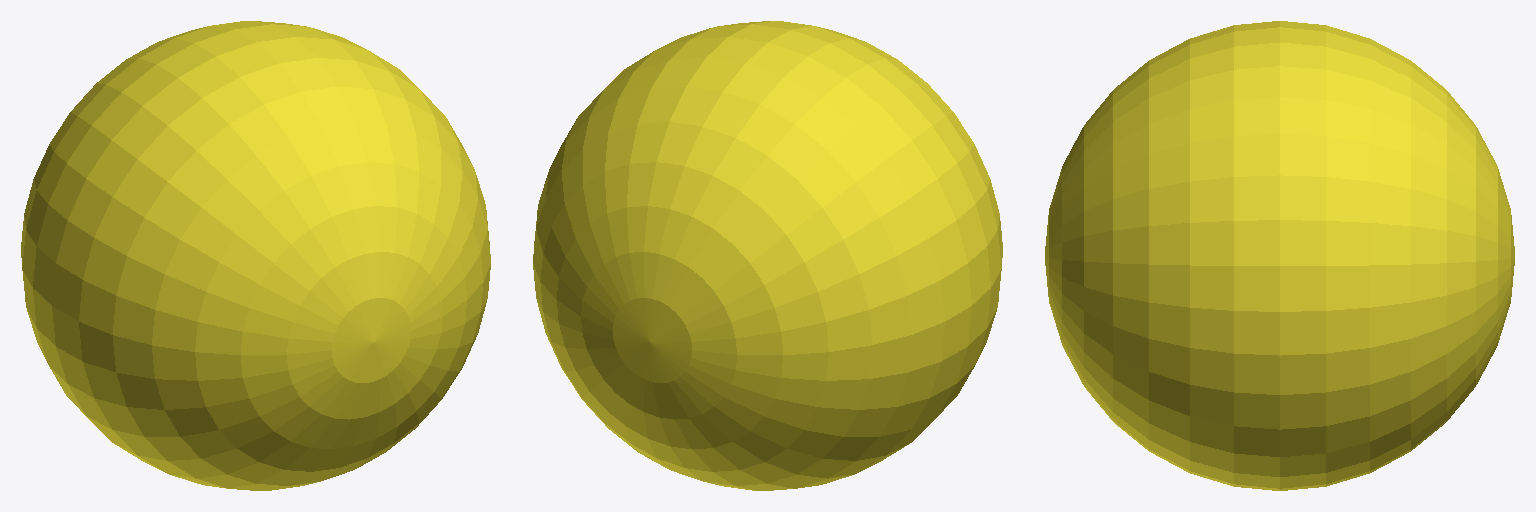
robot.urdf — ur10_robot:
<?xml version="1.0" ?>
<!-- <?xml version="1.0" encoding="utf-8"?> -->
<!-- =================================================================================== -->
<!-- |    This document was autogenerated by xacro from /root/catkin_ws/src/universal_robot/ur_description/urdf/ur.xacro | -->
<!-- |    EDITING THIS FILE BY HAND IS NOT RECOMMENDED                                 | -->
<!-- =================================================================================== -->
<robot name="ur10_robot">
  <!--
    Base UR robot series xacro macro.

    NOTE: this is NOT a URDF. It cannot directly be loaded by consumers
    expecting a flattened '.urdf' file. See the top-level '.xacro' for that
    (but note: that .xacro must still be processed by the xacro command).

    For use in '.launch' files: use one of the 'load_urX.launch' convenience
    launch files.

    This file models the base kinematic chain of a UR robot, which then gets
    parameterised by various configuration files to convert it into a UR3(e),
    UR5(e), UR10(e) or UR16e.

    NOTE: the default kinematic parameters (ie: link lengths, frame locations,
    offets, etc) do not correspond to any particular robot. They are defaults
    only. There WILL be non-zero offsets between the Forward Kinematics results
    in TF (ie: robot_state_publisher) and the values reported by the Teach
    Pendant.

    For accurate (and robot-specific) transforms, the 'kinematics_parameters_file'
    parameter MUST point to a .yaml file containing the appropriate values for
    the targetted robot.

    If using the UniversalRobots/Universal_Robots_ROS_Driver, follow the steps
    described in the readme of that repository to extract the kinematic
    calibration from the controller and generate the required .yaml file.

    Main author of the migration to yaml configs: [author].

    Contributors to previous versions (in no particular order):

     - [author]
     - [author]
     - [author]
     - [author]
     - [author]
     - [author]
     - [author]
     - [author]
     - [author]
     - [author]
     - [author]
     - [author]
     - [author]
     - [author]
     - [author]
     - [author]
     - [author]
  -->
  <!--
    NOTE: the macro defined in this file is NOT part of the public API of this
          package. Users CANNOT rely on this file being available, or stored in
          this location. Nor can they rely on the existence of the macro.
  -->
  <transmission name="shoulder_pan_trans">
    <type>transmission_interface/SimpleTransmission</type>
    <joint name="shoulder_pan_joint">
      <hardwareInterface>hardware_interface/PositionJointInterface</hardwareInterface>
    </joint>
    <actuator name="shoulder_pan_motor">
      <mechanicalReduction>1</mechanicalReduction>
    </actuator>
  </transmission>
  <transmission name="shoulder_lift_trans">
    <type>transmission_interface/SimpleTransmission</type>
    <joint name="shoulder_lift_joint">
      <hardwareInterface>hardware_interface/PositionJointInterface</hardwareInterface>
    </joint>
    <actuator name="shoulder_lift_motor">
      <mechanicalReduction>1</mechanicalReduction>
    </actuator>
  </transmission>
  <transmission name="elbow_trans">
    <type>transmission_interface/SimpleTransmission</type>
    <joint name="elbow_joint">
      <hardwareInterface>hardware_interface/PositionJointInterface</hardwareInterface>
    </joint>
    <actuator name="elbow_motor">
      <mechanicalReduction>1</mechanicalReduction>
    </actuator>
  </transmission>
  <transmission name="wrist_1_trans">
    <type>transmission_interface/SimpleTransmission</type>
    <joint name="wrist_1_joint">
      <hardwareInterface>hardware_interface/PositionJointInterface</hardwareInterface>
    </joint>
    <actuator name="wrist_1_motor">
      <mechanicalReduction>1</mechanicalReduction>
    </actuator>
  </transmission>
  <transmission name="wrist_2_trans">
    <type>transmission_interface/SimpleTransmission</type>
    <joint name="wrist_2_joint">
      <hardwareInterface>hardware_interface/PositionJointInterface</hardwareInterface>
    </joint>
    <actuator name="wrist_2_motor">
      <mechanicalReduction>1</mechanicalReduction>
    </actuator>
  </transmission>
  <transmission name="wrist_3_trans">
    <type>transmission_interface/SimpleTransmission</type>
    <joint name="wrist_3_joint">
      <hardwareInterface>hardware_interface/PositionJointInterface</hardwareInterface>
    </joint>
    <actuator name="wrist_3_motor">
      <mechanicalReduction>1</mechanicalReduction>
    </actuator>
  </transmission>
  <!-- links: main serial chain -->
  <link name="base_link"/>
  <link name="base_link_inertia">
    <visual>
      <origin rpy="0 0 3.14159265359" xyz="0 0 0"/>
      <geometry>
        <mesh filename="meshes/ur10/visual/base.dae"/>
      </geometry>
      <material name="LightGrey">
        <color rgba="0.7 0.7 0.7 1.0"/>
      </material>
    </visual>
    <collision>
      <origin rpy="0 0 3.14159265359" xyz="0 0 0"/>
      <geometry>
        <mesh filename="meshes/ur10/collision/base.stl"/>
      </geometry>
    </collision>
    <inertial>
      <mass value="4.0"/>
      <origin rpy="0 0 0" xyz="0 0 0"/>
      <inertia ixx="0.0061063308908" ixy="0.0" ixz="0.0" iyy="0.0061063308908" iyz="0.0" izz="0.01125"/>
    </inertial>
  </link>
  <link name="shoulder_link">
    <visual>
      <origin rpy="0 0 3.14159265359" xyz="0 0 0"/>
      <geometry>
        <mesh filename="meshes/ur10/visual/shoulder.dae"/>
      </geometry>
      <material name="LightGrey">
        <color rgba="0.7 0.7 0.7 1.0"/>
      </material>
    </visual>
    <collision>
      <origin rpy="0 0 3.14159265359" xyz="0 0 0"/>
      <geometry>
        <mesh filename="meshes/ur10/collision/shoulder.stl"/>
      </geometry>
    </collision>
    <inertial>
      <mass value="7.778"/>
      <origin rpy="0 0 0" xyz="0 0 0"/>
      <inertia ixx="0.0314743125769" ixy="0.0" ixz="0.0" iyy="0.0314743125769" iyz="0.0" izz="0.021875625"/>
    </inertial>
  </link>
  <link name="upper_arm_link">
    <visual>
      <origin rpy="1.57079632679 0 -1.57079632679" xyz="0 0 0.220941"/>
      <geometry>
        <mesh filename="meshes/ur10/visual/upperarm.dae"/>
      </geometry>
      <material name="LightGrey">
        <color rgba="0.7 0.7 0.7 1.0"/>
      </material>
    </visual>
    <collision>
      <origin rpy="1.57079632679 0 -1.57079632679" xyz="0 0 0.220941"/>
      <geometry>
        <mesh filename="meshes/ur10/collision/upperarm.stl"/>
      </geometry>
    </collision>
    <inertial>
      <mass value="12.93"/>
      <origin rpy="0 1.57079632679 0" xyz="-0.306 0.0 0.175"/>
      <inertia ixx="0.421753803798" ixy="0.0" ixz="0.0" iyy="0.421753803798" iyz="0.0" izz="0.036365625"/>
    </inertial>
  </link>
  <link name="forearm_link">
    <visual>
      <origin rpy="1.57079632679 0 -1.57079632679" xyz="0 0 0.049042"/>
      <geometry>
        <mesh filename="meshes/ur10/visual/forearm.dae"/>
      </geometry>
      <material name="LightGrey">
        <color rgba="0.7 0.7 0.7 1.0"/>
      </material>
    </visual>
    <collision>
      <origin rpy="1.57079632679 0 -1.57079632679" xyz="0 0 0.049042"/>
      <geometry>
        <mesh filename="meshes/ur10/collision/forearm.stl"/>
      </geometry>
    </collision>
    <inertial>
      <mass value="3.87"/>
      <origin rpy="0 1.57079632679 0" xyz="-0.28615 0.0 0.049042"/>
      <inertia ixx="0.111069694097" ixy="0.0" ixz="0.0" iyy="0.111069694097" iyz="0.0" izz="0.010884375"/>
    </inertial>
  </link>
  <link name="wrist_1_link">
    <visual>
      <!-- TODO: Move this to a parameter -->
      <origin rpy="1.57079632679 0 0" xyz="0 0 -0.1149"/>
      <geometry>
        <mesh filename="meshes/ur10/visual/wrist1.dae"/>
      </geometry>
      <material name="LightGrey">
        <color rgba="0.7 0.7 0.7 1.0"/>
      </material>
    </visual>
    <collision>
      <origin rpy="1.57079632679 0 0" xyz="0 0 -0.1149"/>
      <geometry>
        <mesh filename="meshes/ur10/collision/wrist1.stl"/>
      </geometry>
    </collision>
    <inertial>
      <mass value="1.96"/>
      <origin rpy="0 0 0" xyz="0 0 0"/>
      <inertia ixx="0.0051082479567" ixy="0.0" ixz="0.0" iyy="0.0051082479567" iyz="0.0" izz="0.0055125"/>
    </inertial>
  </link>
  <link name="wrist_2_link">
    <visual>
      <origin rpy="0 0 0" xyz="0 0 -0.1158"/>
      <geometry>
        <mesh filename="meshes/ur10/visual/wrist2.dae"/>
      </geometry>
      <material name="LightGrey">
        <color rgba="0.7 0.7 0.7 1.0"/>
      </material>
    </visual>
    <collision>
      <origin rpy="0 0 0" xyz="0 0 -0.1158"/>
      <geometry>
        <mesh filename="meshes/ur10/collision/wrist2.stl"/>
      </geometry>
    </collision>
    <inertial>
      <mass value="1.96"/>
      <origin rpy="0 0 0" xyz="0 0 0"/>
      <inertia ixx="0.0040792483683" ixy="0.0" ixz="0.0" iyy="0.0040792483683" iyz="0.0" izz="0.0055125"/>
    </inertial>
  </link>
  <link name="wrist_3_link">
    <visual>
      <origin rpy="1.57079632679 0 0" xyz="0 0 -0.0922"/>
      <geometry>
        <mesh filename="meshes/ur10/visual/wrist3.dae"/>
      </geometry>
      <material name="LightGrey">
        <color rgba="0.7 0.7 0.7 1.0"/>
      </material>
    </visual>
    <collision>
      <origin rpy="1.57079632679 0 0" xyz="0 0 -0.0922"/>
      <geometry>
        <mesh filename="meshes/ur10/collision/wrist3.stl"/>
      </geometry>
    </collision>
    <inertial>
      <mass value="0.202"/>
      <origin rpy="0 0 0" xyz="0.0 0.0 -0.01525"/>
      <inertia ixx="0.000117921661165" ixy="0.0" ixz="0.0" iyy="0.000117921661165" iyz="0.0" izz="0.000204525"/>
    </inertial>
  </link>
  <!-- joints: main serial chain -->
  <joint name="base_link-base_link_inertia" type="fixed">
    <parent link="base_link"/>
    <child link="base_link_inertia"/>
    <!-- 'base_link' is REP-103 aligned (so X+ forward), while the internal
           frames of the robot/controller have X+ pointing backwards.
           Use the joint between 'base_link' and 'base_link_inertia' (a dummy
           link/frame) to introduce the necessary rotation over Z (of pi rad).
      -->
    <origin rpy="0 0 3.14159265359" xyz="0 0 0"/>
  </joint>
  <joint name="shoulder_pan_joint" type="revolute">
    <parent link="base_link_inertia"/>
    <child link="shoulder_link"/>
    <origin rpy="0 0 0" xyz="0 0 0.1273"/>
    <axis xyz="0 0 1"/>
    <limit effort="330.0" lower="-3.1415" upper="3.1415" velocity="2.09439510239"/>
    <dynamics damping="0" friction="0"/>
  </joint>
  <joint name="shoulder_lift_joint" type="revolute">
    <parent link="shoulder_link"/>
    <child link="upper_arm_link"/>
    <origin rpy="1.570796327 0 0" xyz="0 0 0"/>
    <axis xyz="0 0 1"/>
    <limit effort="330.0" lower="-3.1415" upper="3.1415" velocity="2.09439510239"/>
    <dynamics damping="0" friction="0"/>
  </joint>
  <joint name="elbow_joint" type="revolute">
    <parent link="upper_arm_link"/>
    <child link="forearm_link"/>
    <origin rpy="0 0 0" xyz="-0.612 0 0"/>
    <axis xyz="0 0 1"/>
    <limit effort="150.0" lower="-3.1415" upper="3.1415" velocity="3.14159265359"/>
    <dynamics damping="0" friction="0"/>
  </joint>
  <joint name="wrist_1_joint" type="revolute">
    <parent link="forearm_link"/>
    <child link="wrist_1_link"/>
    <origin rpy="0 0 0" xyz="-0.5723 0 0.163941"/>
    <axis xyz="0 0 1"/>
    <limit effort="56.0" lower="-3.1415" upper="3.1415" velocity="3.14159265359"/>
    <dynamics damping="0" friction="0"/>
  </joint>
  <joint name="wrist_2_joint" type="revolute">
    <parent link="wrist_1_link"/>
    <child link="wrist_2_link"/>
    <origin rpy="1.570796327 0 0" xyz="0 -0.1157 -2.37304666792e-11"/>
    <axis xyz="0 0 1"/>
    <limit effort="56.0" lower="-3.1415" upper="3.1415" velocity="3.14159265359"/>
    <dynamics damping="0" friction="0"/>
  </joint>
  <joint name="wrist_3_joint" type="revolute">
    <parent link="wrist_2_link"/>
    <child link="wrist_3_link"/>
    <origin rpy="1.57079632659 3.14159265359 3.14159265359" xyz="0 0.0922 -1.89105361091e-11"/>
    <axis xyz="0 0 1"/>
    <limit effort="56.0" lower="-3.1415" upper="3.1415" velocity="3.14159265359"/>
    <dynamics damping="0" friction="0"/>
  </joint>
  <!-- ROS-Industrial 'base' frame: base_link to UR 'Base' Coordinates transform -->
  <link name="base"/>
  <joint name="base_link-base_fixed_joint" type="fixed">
    <!-- Note the rotation over Z of pi radians: as base_link is REP-103
           aligned (ie: has X+ forward, Y+ left and Z+ up), this is needed
           to correctly align 'base' with the 'Base' coordinate system of
           the UR controller.
      -->
    <origin rpy="0 0 3.14159265359" xyz="0 0 0"/>
    <parent link="base_link"/>
    <child link="base"/>
  </joint>
  <!-- ROS-Industrial 'flange' frame: attachment point for EEF models -->
  <link name="flange"/>
  <joint name="wrist_3-flange" type="fixed">
    <parent link="wrist_3_link"/>
    <child link="flange"/>
    <origin rpy="0 -1.57079632679 -1.57079632679" xyz="0 0 0"/>
  </joint>
  
  <link name="robotiq_85_base_link">
      <visual>
        <geometry>
          <mesh filename="meshes/robotiq_85_gripper/visual/robotiq_85_base_link.dae"/>
        </geometry>
      </visual>
      <collision>
        <geometry>
          <mesh filename="meshes/robotiq_85_gripper/collision/robotiq_85_base_link.stl"/>
        </geometry>
      </collision>
      <inertial>
        <mass value="0.636951" />
        <origin xyz="0.0 0.0 0.0" />
        <inertia ixx = "0.000380" ixy = "0.000000" ixz = "0.000000"
             iyx = "0.000000" iyy = "0.001110" iyz = "0.000000"
             izx = "0.000000" izy = "0.000000" izz = "0.001171" />
      </inertial>
    </link>

    <!-- <joint name="robotiq_85_left_knuckle_joint" type="revolute"> -->
    <joint name="robotiq_85_left_knuckle_joint" type="fixed">
      <parent link="robotiq_85_base_link"/>
      <child link="robotiq_85_left_knuckle_link"/>
      <axis xyz="0 0 1"/>
      <origin rpy="3.14 0.0 0.0" xyz="0.05490451627 0.03060114443 0.0"/>
      <!-- <limit lower="0.0" upper="0.80285" velocity="3.14" effort="1000"/> -->
    </joint>

    <!-- <joint name="robotiq_85_right_knuckle_joint" type="revolute"> -->
    <joint name="robotiq_85_right_knuckle_joint" type="fixed">
      <parent link="robotiq_85_base_link"/>
      <child link="robotiq_85_right_knuckle_link"/>
      <axis xyz="0 0 1"/>
      <origin rpy="0.0 0.0 0.0" xyz="0.05490451627 -0.03060114443 0.0"/>
      <!-- <limit lower="-3.14" upper="3.14" velocity="3.14" effort="1000"/>
      <mimic joint="robotiq_85_left_knuckle_joint"/> -->
    </joint>

    <link name="robotiq_85_left_knuckle_link">
      <visual>
        <geometry>
          <mesh filename="meshes/robotiq_85_gripper/visual/robotiq_85_knuckle_link.dae"/>
        </geometry>
      </visual>
      <collision>
        <geometry>
          <mesh filename="meshes/robotiq_85_gripper/collision/robotiq_85_knuckle_link.stl"/>
        </geometry>
      </collision>
      <inertial>
        <mass value="0.018491" />
        <origin xyz="0.0 0.0 0.0" />
        <inertia ixx = "0.000009" ixy = "-0.000001" ixz = "0.000000"
             iyx = "-0.000001" iyy = "0.000001" iyz = "0.000000"
             izx = "0.000000" izy = "0.000000" izz = "0.000010" />
      </inertial>
    </link>

    <link name="robotiq_85_right_knuckle_link">
      <visual>
        <geometry>
          <mesh filename="meshes/robotiq_85_gripper/visual/robotiq_85_knuckle_link.dae"/>
        </geometry>
      </visual>
      <collision>
        <geometry>
          <mesh filename="meshes/robotiq_85_gripper/collision/robotiq_85_knuckle_link.stl"/>
        </geometry>
      </collision>
      <inertial>
        <mass value="0.018491" />
        <origin xyz="0.0 0.0 0.0" />
        <inertia ixx = "0.000009" ixy = "-0.000001" ixz = "0.000000"
             iyx = "-0.000001" iyy = "0.000001" iyz = "0.000000"
             izx = "0.000000" izy = "0.000000" izz = "0.000010" />
      </inertial>
    </link>

    <joint name="robotiq_85_left_finger_joint" type="fixed">
      <parent link="robotiq_85_left_knuckle_link"/>
      <child link="robotiq_85_left_finger_link"/>
      <origin xyz="-0.00408552455 -0.03148604435 0.0" rpy="0 0 0" />
    </joint>

    <joint name="robotiq_85_right_finger_joint" type="fixed">
      <parent link="robotiq_85_right_knuckle_link"/>
      <child link="robotiq_85_right_finger_link"/>
      <origin xyz="-0.00408552455 -0.03148604435 0.0" rpy="0 0 0" />
    </joint>

    <link name="robotiq_85_left_finger_link">
      <visual>
        <geometry>
          <mesh filename="meshes/robotiq_85_gripper/visual/robotiq_85_finger_link.dae"/>
        </geometry>
      </visual>
      <collision>
        <geometry>
          <mesh filename="meshes/robotiq_85_gripper/collision/robotiq_85_finger_link.stl"/>
        </geometry>
      </collision>
      <inertial>
        <mass value="0.027309" />
        <origin xyz="0.0 0.0 0.0" />
        <inertia ixx = "0.000003" ixy = "-0.000002" ixz = "0.000000"
             iyx = "-0.000002" iyy = "0.000021" iyz = "0.000000"
             izx = "0.000000" izy = "0.000000" izz = "0.000020" />
      </inertial>
    </link>

    <link name="robotiq_85_right_finger_link">
      <visual>
        <geometry>
          <mesh filename="meshes/robotiq_85_gripper/visual/robotiq_85_finger_link.dae"/>
        </geometry>
      </visual>
      <collision>
        <geometry>
          <mesh filename="meshes/robotiq_85_gripper/collision/robotiq_85_finger_link.stl"/>
        </geometry>
      </collision>
      <inertial>
        <mass value="0.027309" />
        <origin xyz="0.0 0.0 0.0" />
        <inertia ixx = "0.000003" ixy = "-0.000002" ixz = "0.000000"
             iyx = "-0.000002" iyy = "0.000021" iyz = "0.000000"
             izx = "0.000000" izy = "0.000000" izz = "0.000020" />
      </inertial>
    </link>

    <!-- <joint name="robotiq_85_left_inner_knuckle_joint" type="revolute"> -->
    <joint name="robotiq_85_left_inner_knuckle_joint" type="fixed">
      <parent link="robotiq_85_base_link"/>
      <child link="robotiq_85_left_inner_knuckle_link"/>
      <axis xyz="0 0 1"/>
      <origin xyz="0.06142 0.0127 0" rpy="3.14 0.0 0.0" />
      <!-- <limit lower="-3.14" upper="3.14" velocity="3.14" effort="0.1"/>
      <mimic joint="robotiq_85_left_knuckle_joint" offset="0"/> -->
    </joint>

    <!-- <joint name="robotiq_85_right_inner_knuckle_joint" type="revolute"> -->
    <joint name="robotiq_85_right_inner_knuckle_joint" type="fixed">
      <parent link="robotiq_85_base_link"/>
      <child link="robotiq_85_right_inner_knuckle_link"/>
      <axis xyz="0 0 1"/>
      <origin xyz="0.06142 -0.0127 0" rpy="0 0 0"/>
      <!-- <limit lower="-3.14" upper="3.14" velocity="3.14" effort="0.1"/>
      <mimic joint="robotiq_85_left_knuckle_joint" offset="0"/> -->
    </joint>

    <link name="robotiq_85_left_inner_knuckle_link">
      <visual>
        <geometry>
          <mesh filename="meshes/robotiq_85_gripper/visual/robotiq_85_inner_knuckle_link.dae"/>
        </geometry>
      </visual>
      <collision>
        <geometry>
          <mesh filename="meshes/robotiq_85_gripper/collision/robotiq_85_inner_knuckle_link.stl"/>
        </geometry>
      </collision>
      <inertial>
        <mass value="0.029951" />
        <origin xyz="0.0 0.0 0.0" />
        <inertia ixx = "0.000039" ixy = "0.000000" ixz = "0.000000"
             iyx = "0.000000" iyy = "0.000005" iyz = "0.000000"
             izx = "0.000000" izy = "0.000000" izz = "0.000035" />
      </inertial>
    </link>
    <link name="robotiq_85_right_inner_knuckle_link">
      <visual>
        <geometry>
          <mesh filename="meshes/robotiq_85_gripper/visual/robotiq_85_inner_knuckle_link.dae"/>
        </geometry>
      </visual>
      <collision>
        <geometry>
          <mesh filename="meshes/robotiq_85_gripper/collision/robotiq_85_inner_knuckle_link.stl"/>
        </geometry>
      </collision>
      <inertial>
        <mass value="0.029951" />
        <origin xyz="0.0 0.0 0.0" />
        <inertia ixx = "0.000039" ixy = "0.000000" ixz = "0.000000"
             iyx = "0.000000" iyy = "0.000005" iyz = "0.000000"
             izx = "0.000000" izy = "0.000000" izz = "0.000035" />
      </inertial>
    </link>

    <!-- <joint name="robotiq_85_left_finger_tip_joint" type="revolute"> -->
    <joint name="robotiq_85_left_finger_tip_joint" type="fixed">
      <parent link="robotiq_85_left_inner_knuckle_link"/>
      <child link="robotiq_85_left_finger_tip_link"/>
      <axis xyz="0 0 1"/>
      <origin xyz="0.04303959807 -0.03759940821 0.0" rpy="0.0 0.0 0.0"/>
      <!-- <limit lower="-3.14" upper="3.14" velocity="3.14" effort="0.1"/>
      <mimic joint="robotiq_85_left_knuckle_joint" multiplier="-1"/> -->
    </joint>

    <!-- <joint name="robotiq_85_right_finger_tip_joint" type="revolute"> -->
    <joint name="robotiq_85_right_finger_tip_joint" type="fixed">
      <parent link="robotiq_85_right_inner_knuckle_link"/>
      <child link="robotiq_85_right_finger_tip_link"/>
      <axis xyz="0 0 1"/>
      <origin rpy="0.0 0.0 0.0" xyz="0.04303959807 -0.03759940821  0.0"/>
      <!-- <limit lower="-3.14" upper="3.14" velocity="3.14" effort="0.1"/>
      <mimic joint="robotiq_85_left_knuckle_joint" multiplier="-1"/> -->
    </joint>


    <link name="robotiq_85_left_finger_tip_link">
      <visual>
        <geometry>
          <mesh filename="meshes/robotiq_85_gripper/visual/robotiq_85_finger_tip_link.dae"/>
        </geometry>
      </visual>
      <collision>
        <geometry>
          <mesh filename="meshes/robotiq_85_gripper/collision/robotiq_85_finger_tip_link.stl"/>
        </geometry>
      </collision>
      <inertial>
        <mass value="0.019555" />
        <origin xyz="0.0 0.0 0.0" />
        <inertia ixx = "0.000002" ixy = "0.000000" ixz = "0.000000"
             iyx = "0.000000" iyy = "0.000005" iyz = "0.000000"
             izx = "0.000000" izy = "0.000000" izz = "0.000006" />
      </inertial>
    </link>

    <link name="robotiq_85_right_finger_tip_link">
      <visual>
        <geometry>
          <mesh filename="meshes/robotiq_85_gripper/visual/robotiq_85_finger_tip_link.dae"/>
        </geometry>
      </visual>
      <collision>
        <geometry>
          <mesh filename="meshes/robotiq_85_gripper/collision/robotiq_85_finger_tip_link.stl"/>
        </geometry>
      </collision>
      <inertial>
        <mass value="0.019555" />
        <origin xyz="0.0 0.0 0.0" />
        <inertia ixx = "0.000002" ixy = "0.000000" ixz = "0.000000"
             iyx = "0.000000" iyy = "0.000005" iyz = "0.000000"
             izx = "0.000000" izy = "0.000000" izz = "0.000006" />
      </inertial>
    </link>

    <link name="gripper_base_target">
      <visual>
        <geometry>
          <sphere radius="0.01"/>
        </geometry>
      </visual>
    </link>
    <joint name="gripper_parent_to_target" type="fixed">
      <parent link="flange"/>
      <child link="gripper_base_target"/>
      <origin rpy="1.57079632679 1.57079632679 1.57079632679" xyz="0.05 0 0"/>
    </joint>

    <joint name="arm_gripper_joint" type="fixed">
      <parent link="flange"/>
      <child link="robotiq_85_base_link"/>
      <origin rpy="0.0 0.0 0.0" xyz="0.0 0.0 0.0"/>
    </joint>

</robot>

--- Render facts (derived) ---
3 views of the same robot in one strip: view 1: azimuth 30°, elevation 25°; view 2: azimuth 150°, elevation 25°; view 3: azimuth 270°, elevation 25° (orthographic).
Model ur10_robot with 20 links and 19 joints (6 revolute, 13 fixed), rooted at base_link, posed all joints at 0.
Links seen in each view (by area): view 1: gripper_base_target; view 2: gripper_base_target; view 3: gripper_base_target.
Boxes of the visible links, bbox=[...] form: gripper_base_target: bbox=[21, 21, 490, 490]; gripper_base_target: bbox=[533, 21, 1002, 490]; gripper_base_target: bbox=[1045, 21, 1514, 490].
Bounding box of the posed robot: 0.02 × 0.02 × 0.02 m (x, y, z).
0 mesh visuals loaded from 12 distinct referenced files (none loaded); not drawn: 16 (reference not matched to a file when rendering).